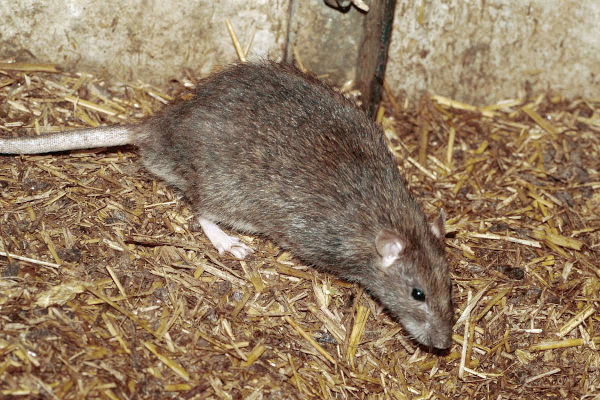rat: (45, 52, 465, 357)
